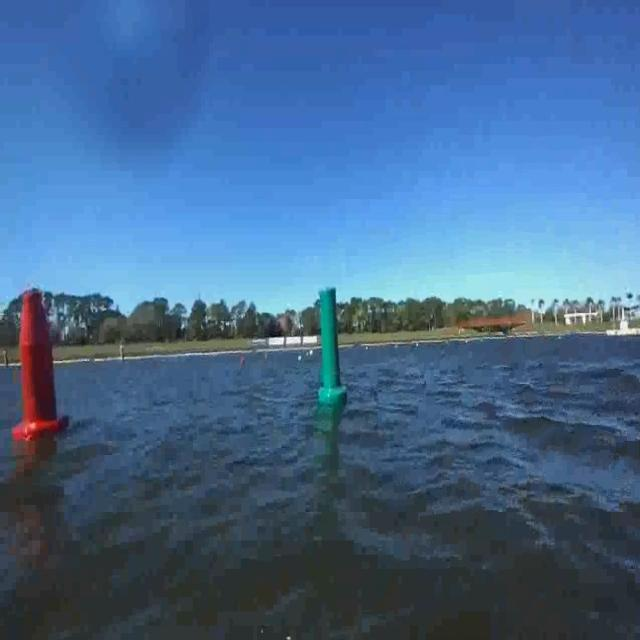green-column-buoy: (316, 285, 347, 405)
red-column-buoy: (13, 284, 65, 442)
